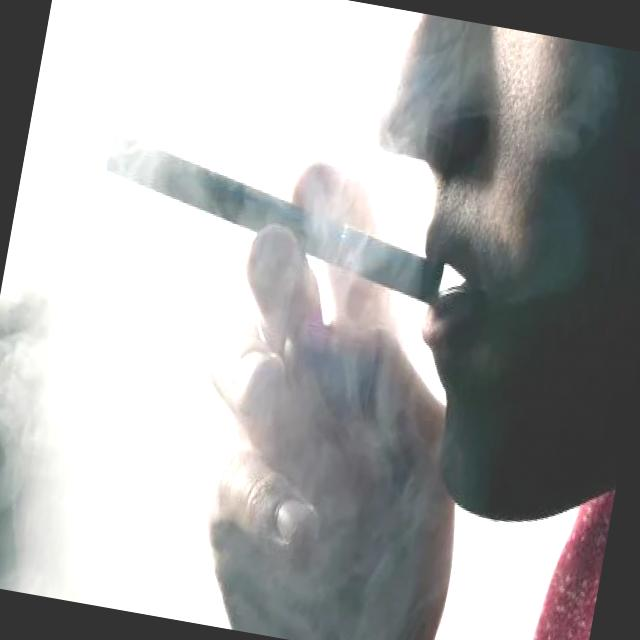cigarette: (83, 122, 463, 315)
